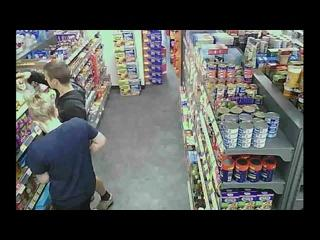shoplifting: (26, 90, 108, 210), (43, 61, 87, 123)
